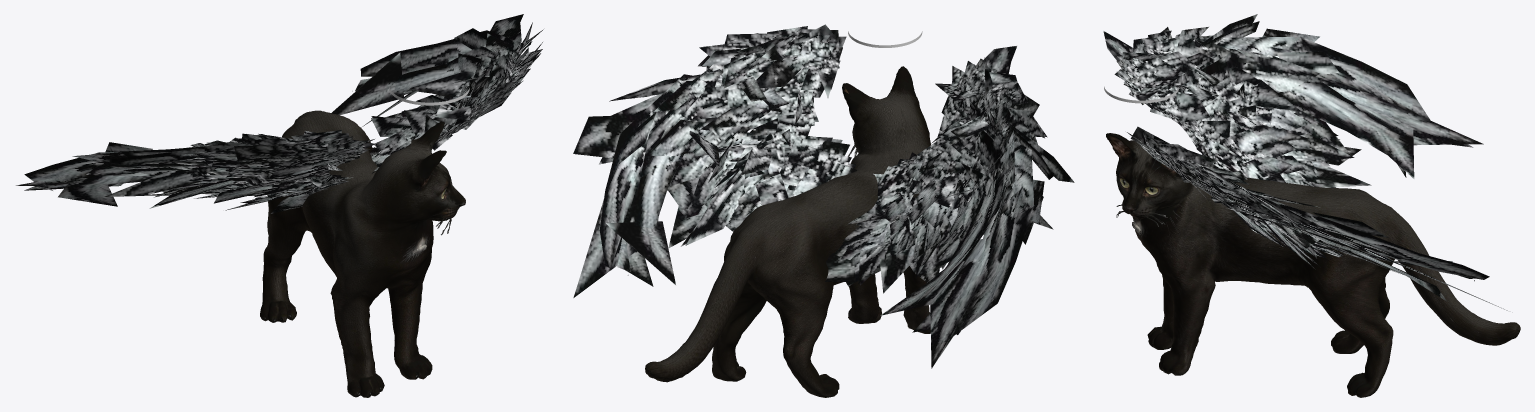
The model's file is lilith+low+poly.glb.
3 renders of one model, left to right at view 1: azimuth 30°, elevation 25°; view 2: azimuth 150°, elevation 25°; view 3: azimuth 270°, elevation 25°, orthographic. The views are drawn at different scales.
Visible parts, largest first — view 1: ParentNode, tripo_node_4532d435-71fe-462b-b89a-ab129b5d5751; view 2: ParentNode, tripo_node_4532d435-71fe-462b-b89a-ab129b5d5751; view 3: ParentNode, tripo_node_4532d435-71fe-462b-b89a-ab129b5d5751.
Boxes of the visible parts, box(x1,y1,x2,y2) form: ParentNode: box(16, 14, 543, 213); tripo_node_4532d435-71fe-462b-b89a-ab129b5d5751: box(260, 110, 465, 397); ParentNode: box(573, 24, 1074, 368); tripo_node_4532d435-71fe-462b-b89a-ab129b5d5751: box(645, 66, 930, 397); ParentNode: box(1103, 14, 1507, 310); tripo_node_4532d435-71fe-462b-b89a-ab129b5d5751: box(1106, 133, 1520, 397).
Bounding box in the file's own units: 0.4857 × 0.2969 × 0.3944.
2 materials, 2 textured.
